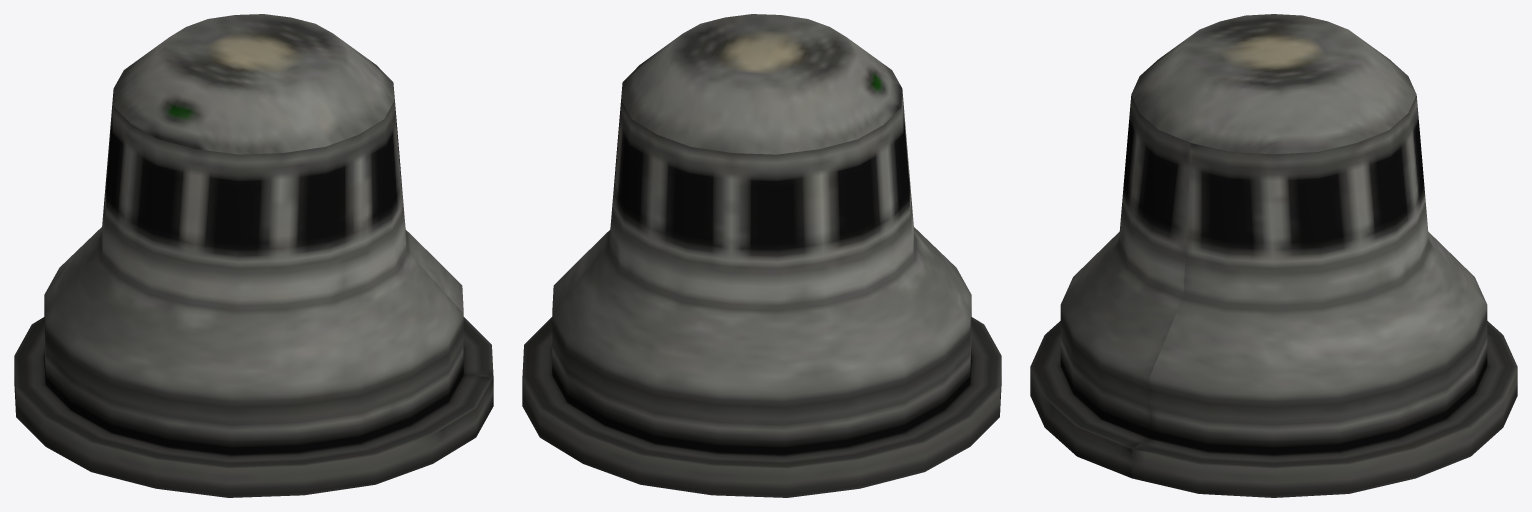
Rendered from p6_smoke_detector_lod0.glb.
3 renders of one model, left to right at view 1: azimuth 30°, elevation 25°; view 2: azimuth 150°, elevation 25°; view 3: azimuth 270°, elevation 25°, orthographic.
Parts seen in each view (by area): view 1: surf0; view 2: surf0; view 3: surf0.
Boxes of the visible parts, bbox=[...] form: surf0: bbox=[14, 14, 493, 497]; surf0: bbox=[522, 14, 1001, 497]; surf0: bbox=[1030, 14, 1517, 497].
Bounding box in the file's own units: 9.71 × 7.63 × 9.8.
